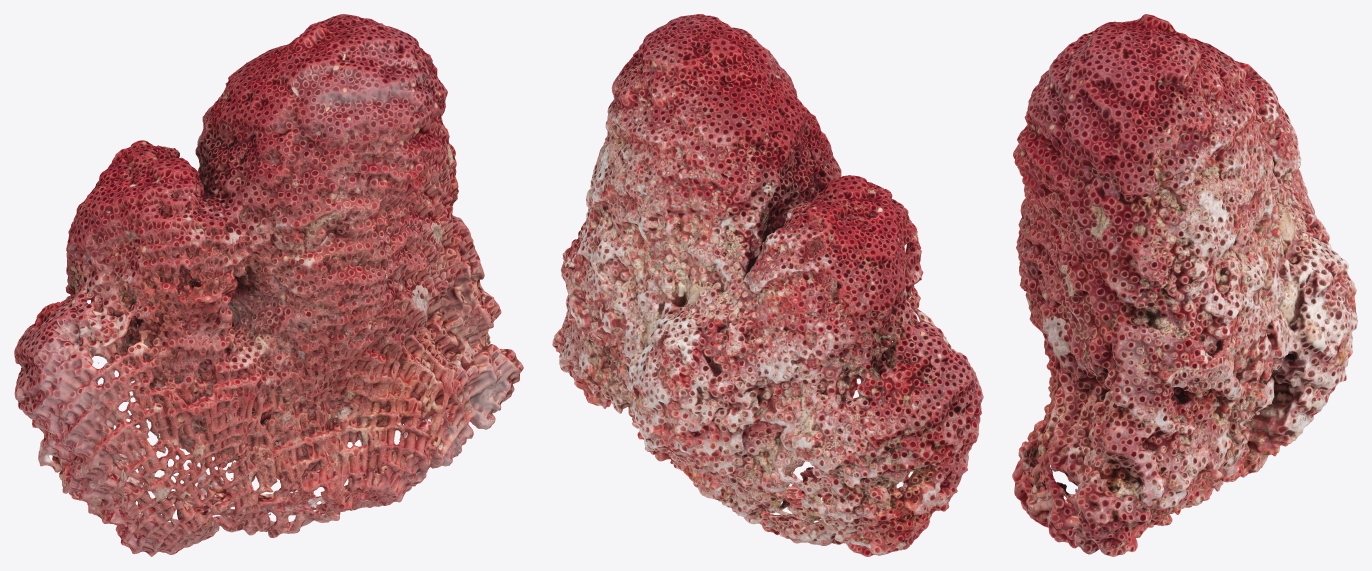
File: algue_rouge_actuelle.glb
3 views of the same model, side by side, from view 1: azimuth 30°, elevation 25°; view 2: azimuth 150°, elevation 25°; view 3: azimuth 270°, elevation 25° (orthographic). The views are drawn at different scales.
Visible parts, largest first — view 1: Model, Model_material0_0.001, Model_material2_0.001, Model_material1_0.002, Model_material1_0.001, Model_material0_0.002, Model_material2_0.002, Model_material1_0.003, Model_material0_0.003, Model_material2_0.003; view 2: Model, Model_material2_0.002, Model_material1_0.003, Model_material0_0.002, Model_material1_0.002, Model_material0_0.003, Model_material1_0.001, Model_material0_0.001, Model_material2_0.003, Model_material2_0.001; view 3: Model, Model_material1_0.001, Model_material2_0.002, Model_material0_0.001, Model_material2_0.001, Model_material1_0.003, Model_material0_0.002, Model_material0_0.003, Model_material2_0.003, Model_material1_0.002.
Boxes of the visible parts, box(x1,y1,x2,y2) form: Model: box(14, 14, 469, 545); Model_material0_0.001: box(62, 14, 512, 556); Model_material2_0.001: box(78, 155, 496, 556); Model_material1_0.002: box(16, 152, 519, 555); Model_material1_0.001: box(52, 160, 523, 538); Model_material0_0.002: box(14, 132, 494, 544); Model_material2_0.002: box(21, 30, 520, 535); Model_material1_0.003: box(101, 52, 415, 428); Model_material0_0.003: box(128, 23, 334, 483); Model_material2_0.003: box(227, 128, 285, 331); Model: box(563, 14, 979, 545); Model_material2_0.002: box(552, 40, 983, 545); Model_material1_0.003: box(572, 61, 833, 478); Model_material0_0.002: box(552, 169, 982, 545); Model_material1_0.002: box(626, 145, 981, 555); Model_material0_0.003: box(584, 34, 859, 456); Model_material1_0.001: box(560, 207, 917, 555); Model_material0_0.001: box(559, 43, 925, 549); Model_material2_0.003: box(615, 143, 701, 243); Model_material2_0.001: box(562, 248, 967, 556); Model: box(1013, 22, 1329, 380); Model_material1_0.001: box(1012, 171, 1287, 554); Model_material2_0.002: box(1048, 14, 1347, 554); Model_material0_0.001: box(1014, 35, 1267, 542); Model_material2_0.001: box(1016, 191, 1259, 556); Model_material1_0.003: box(1039, 38, 1352, 449); Model_material0_0.002: box(1013, 152, 1344, 556); Model_material0_0.003: box(1100, 15, 1357, 439); Model_material2_0.003: box(1091, 131, 1277, 232); Model_material1_0.002: box(1012, 185, 1290, 554).
Size of the model in its own units: 0.9065 by 0.9265 by 0.5361.
3 materials, 3 textured.
